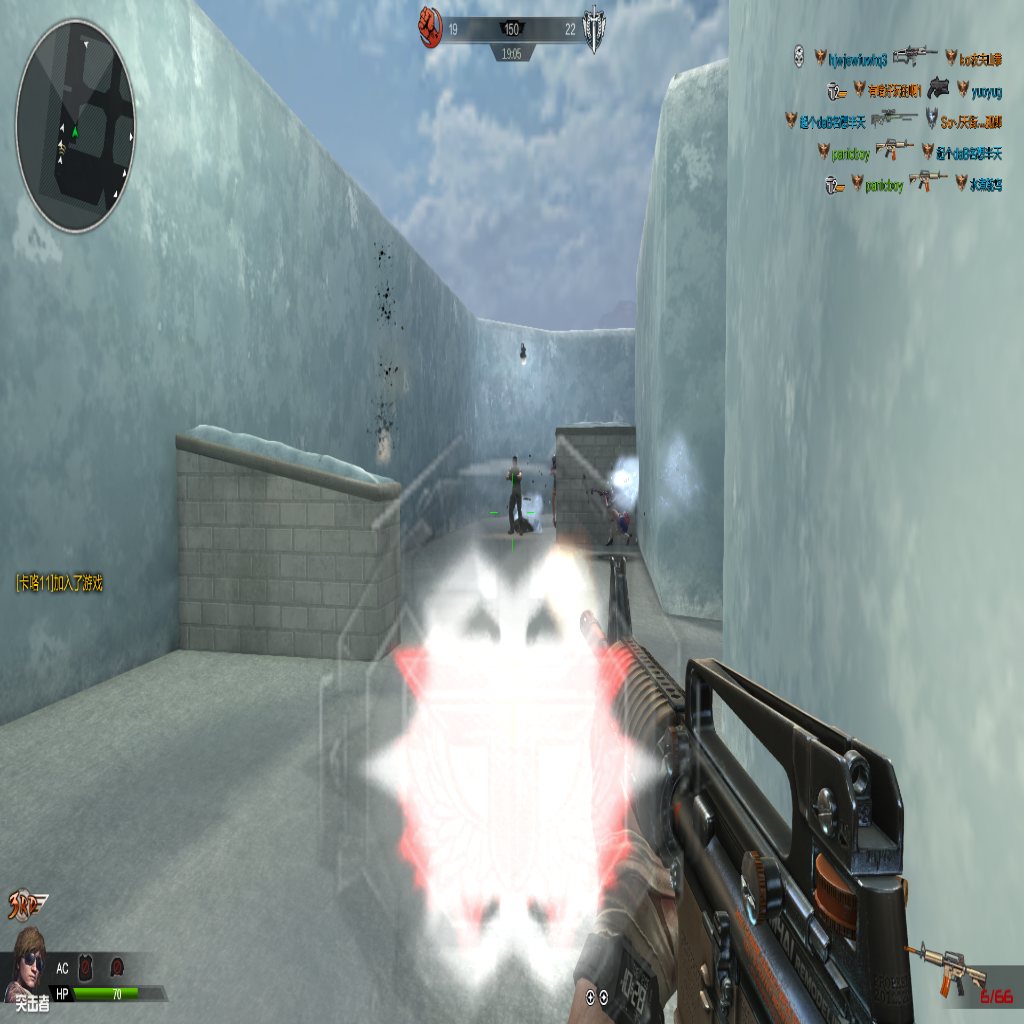ct: (506, 450, 524, 536)
